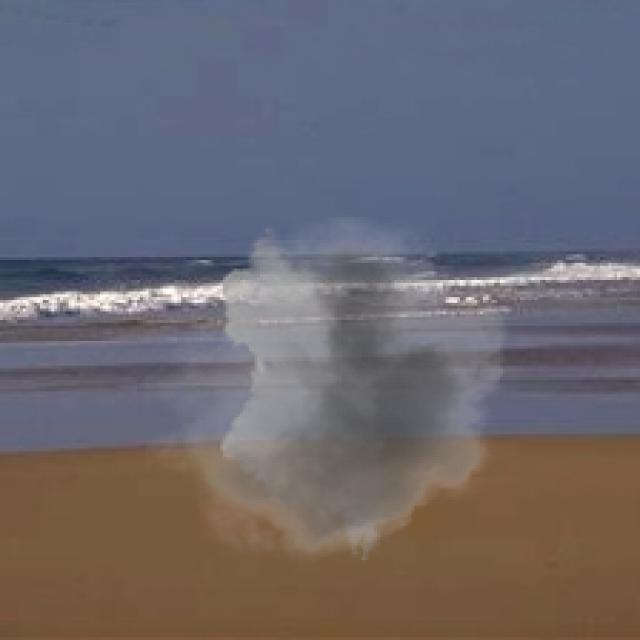smoke: (143, 215, 526, 574)
